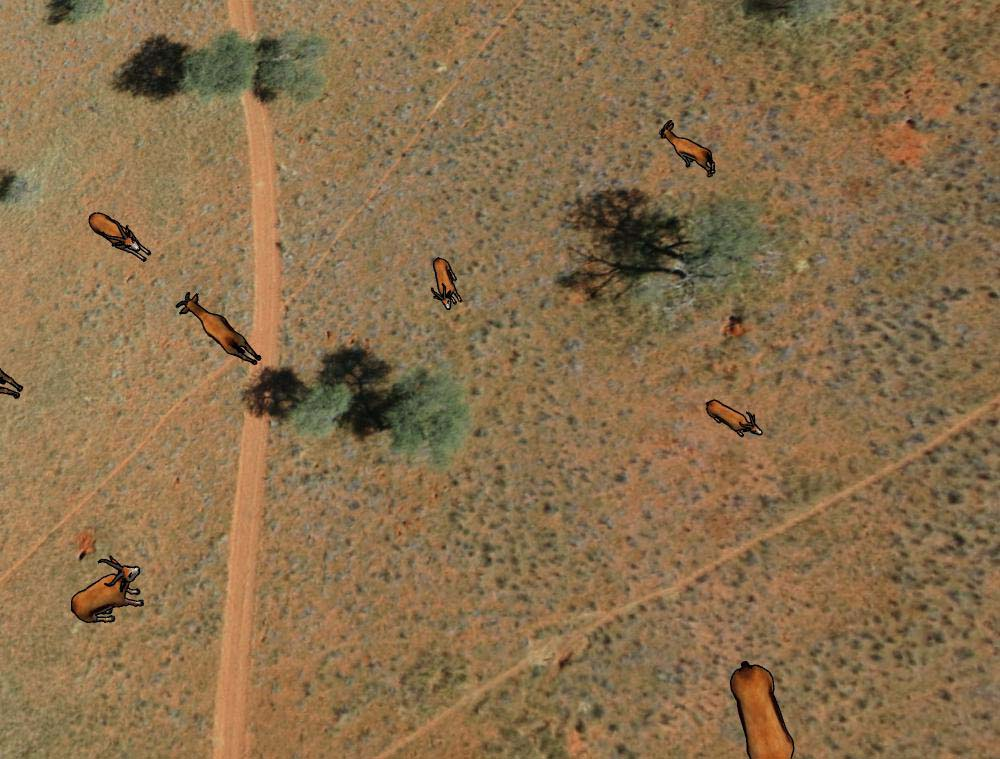springbok: (724, 657, 801, 759), (174, 287, 266, 370), (66, 555, 150, 626), (82, 208, 157, 264), (653, 118, 721, 179), (701, 390, 764, 445), (429, 252, 464, 310)
